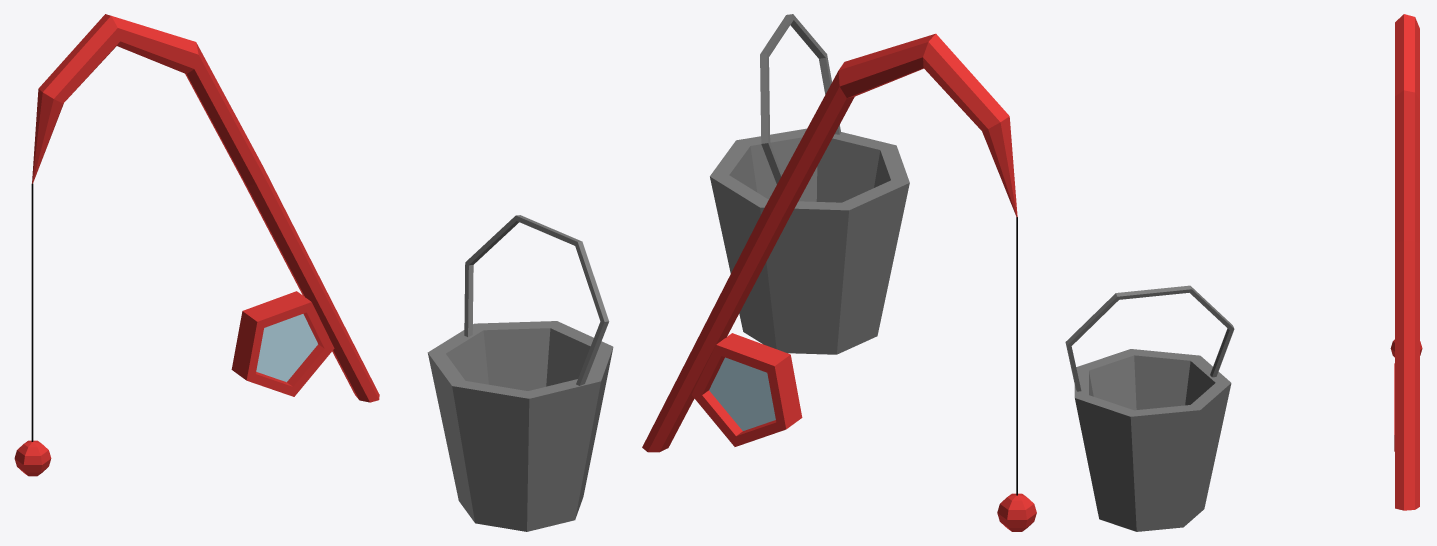
File: VaraPescar.fbx
3 views of the same model, side by side, from view 1: azimuth 30°, elevation 25°; view 2: azimuth 150°, elevation 25°; view 3: azimuth 270°, elevation 25° (orthographic). The views are drawn at different scales.
Visible parts, largest first — view 1: Cylinder, Cylinder.001, Cylinder.002, Sphere; view 2: Cylinder, Cylinder.001, Cylinder.002, Sphere; view 3: Cylinder, Cylinder.001.
Boxes of the visible parts, <box> form: Cylinder: <box>427,215,613,531</box>; Cylinder.001: <box>32,14,379,402</box>; Cylinder.002: <box>31,183,334,441</box>; Sphere: <box>14,440,51,476</box>; Cylinder: <box>710,14,909,354</box>; Cylinder.001: <box>642,33,1017,452</box>; Cylinder.002: <box>691,217,1017,495</box>; Sphere: <box>997,493,1036,531</box>; Cylinder: <box>1065,285,1234,531</box>; Cylinder.001: <box>1395,14,1419,510</box>.
Bounding box in the file's own units: 525 × 514 × 433.
